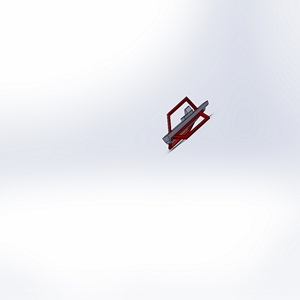submarine: (156, 93, 220, 156)
